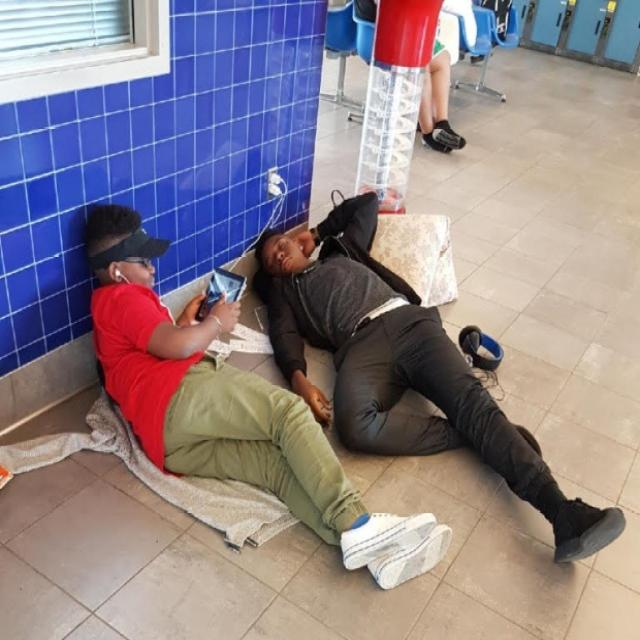body: (84, 202, 456, 595), (250, 186, 628, 570), (415, 37, 469, 156)
